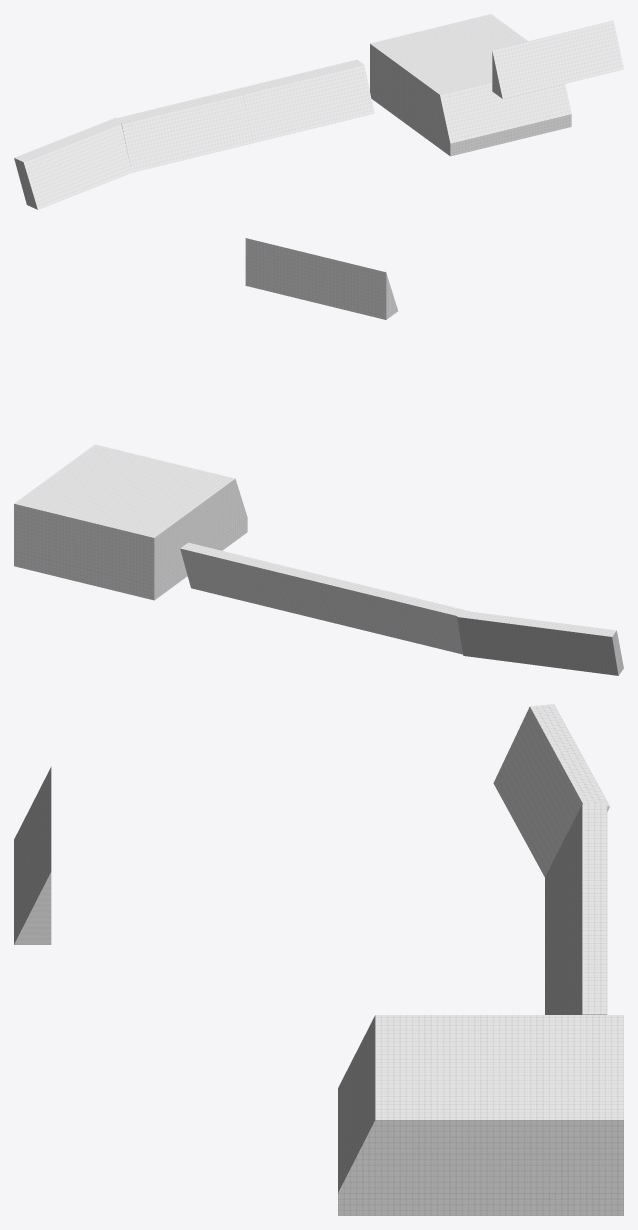
Rendered from surf_playground.glb.
The picture shows the model from 3 angles, top to bottom: view 1: azimuth 30°, elevation 25°; view 2: azimuth 150°, elevation 25°; view 3: azimuth 270°, elevation 25°; orthographic projection. The views are drawn at different scales.
Visible parts, largest first — view 1: Floor, Floor.003, Floor.002, Floor.001, Floor.004; view 2: Floor, Floor.004, Floor.001, Floor.002, Floor.003; view 3: Floor, Floor.004, Floor.003, Floor.001, Floor.002.
Part boxes in pixels (x1,y1,x2,y2): Floor: (370, 14, 571, 156); Floor.003: (115, 89, 253, 172); Floor.002: (236, 59, 374, 142); Floor.001: (492, 20, 623, 98); Floor.004: (14, 117, 131, 209); Floor: (14, 444, 247, 600); Floor.004: (457, 611, 623, 675); Floor.001: (245, 238, 397, 319); Floor.002: (180, 542, 331, 622); Floor.003: (320, 577, 468, 654); Floor: (338, 1015, 623, 1215); Floor.004: (493, 704, 609, 876); Floor.003: (545, 804, 607, 981); Floor.001: (14, 767, 51, 944); Floor.002: (545, 909, 607, 1014).
Size of the model in its own units: 164 by 55.12 by 98.1.
Materials: 3 (3 with a texture image).
